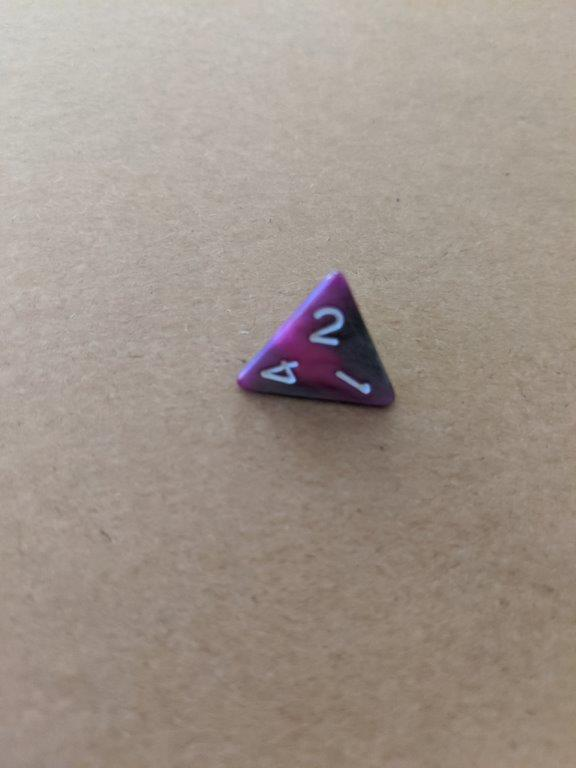d4-2: (236, 267, 401, 421)
